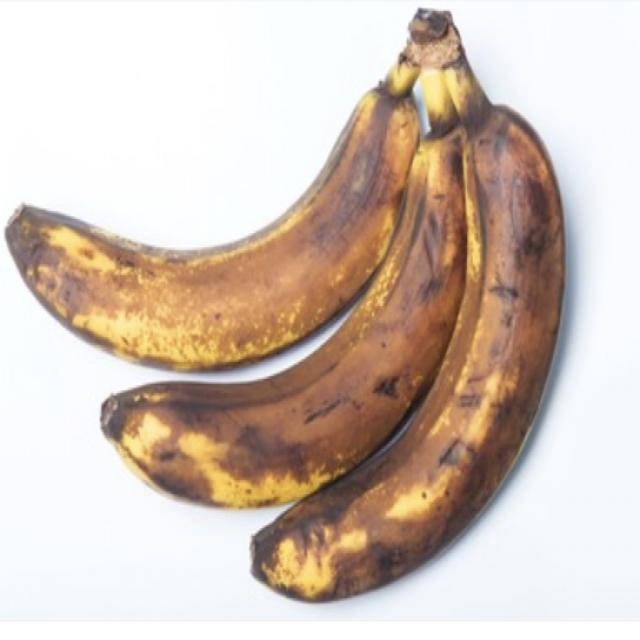rotten-banana: (95, 0, 479, 506), (258, 18, 567, 627), (3, 8, 429, 372)
